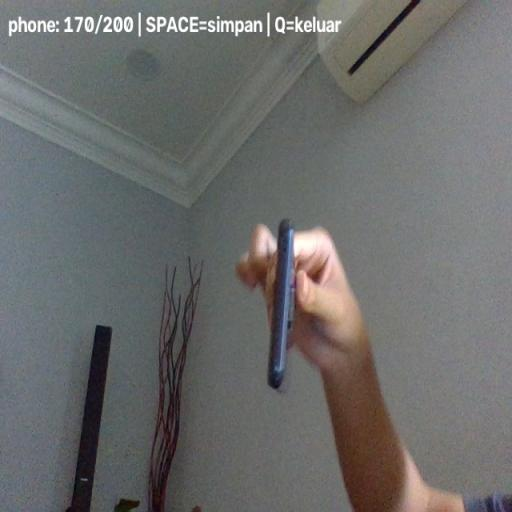Phone: (267, 218, 297, 388)
